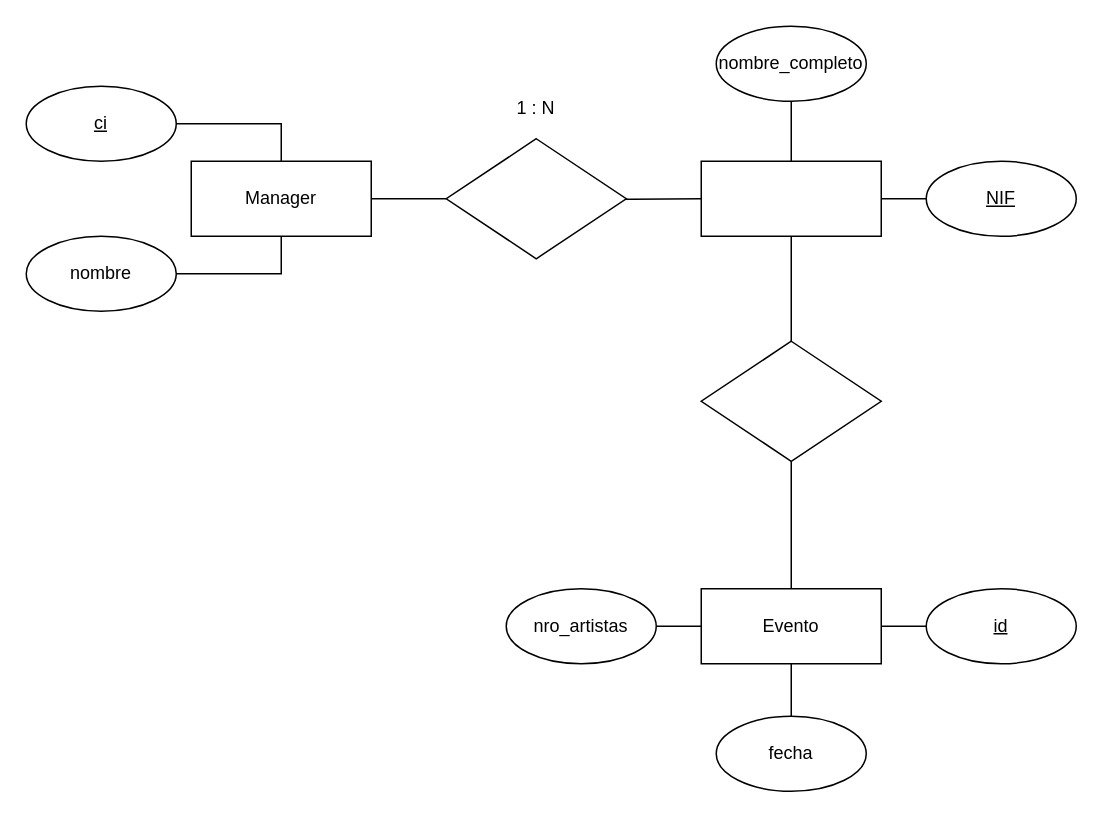
Some shapes in this 1103 by 818 pixel diagram are drawn without their labels. The shapes that lost their labels are listed below. From the top down, each one's centre as x and y in pixels, then its label:
At point (535, 198): "representa".
At point (790, 198): "Artista".
At point (790, 400): "participa".
